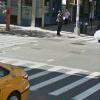Crosswalk: (25, 58, 95, 100)
